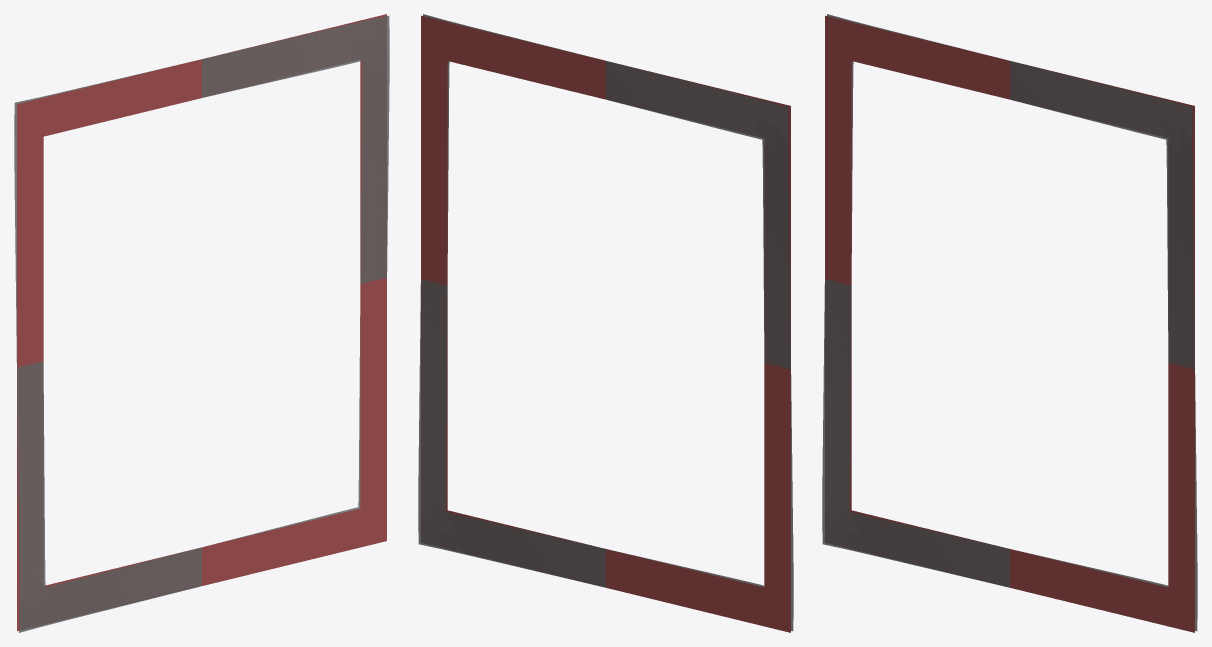
File: warping-box-151-111-11-8-213.glb
3 views of the same model, side by side, from view 1: azimuth 30°, elevation 25°; view 2: azimuth 150°, elevation 25°; view 3: azimuth 330°, elevation 25° (orthographic).
Visible parts, largest first — view 1: undeformed cross-section, cross-section with warping; view 2: undeformed cross-section, cross-section with warping; view 3: undeformed cross-section, cross-section with warping.
Boxes of the visible parts, box(x1,y1,x2,y2) form: undeformed cross-section: box(17, 14, 386, 631); cross-section with warping: box(14, 15, 389, 632); undeformed cross-section: box(421, 15, 790, 632); cross-section with warping: box(418, 14, 793, 631); undeformed cross-section: box(825, 15, 1194, 632); cross-section with warping: box(822, 14, 1197, 631).
Size of the model in its own units: 0.111 by 0.151 by 0.0028.
